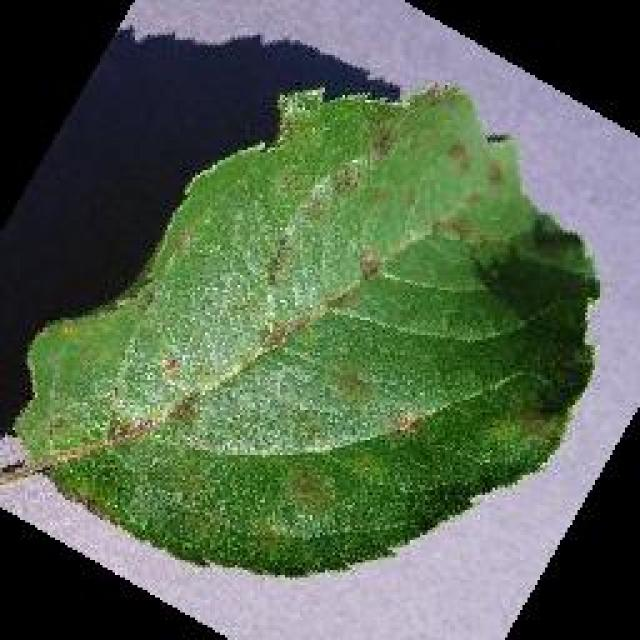apple scab disease: (10, 78, 600, 580)
